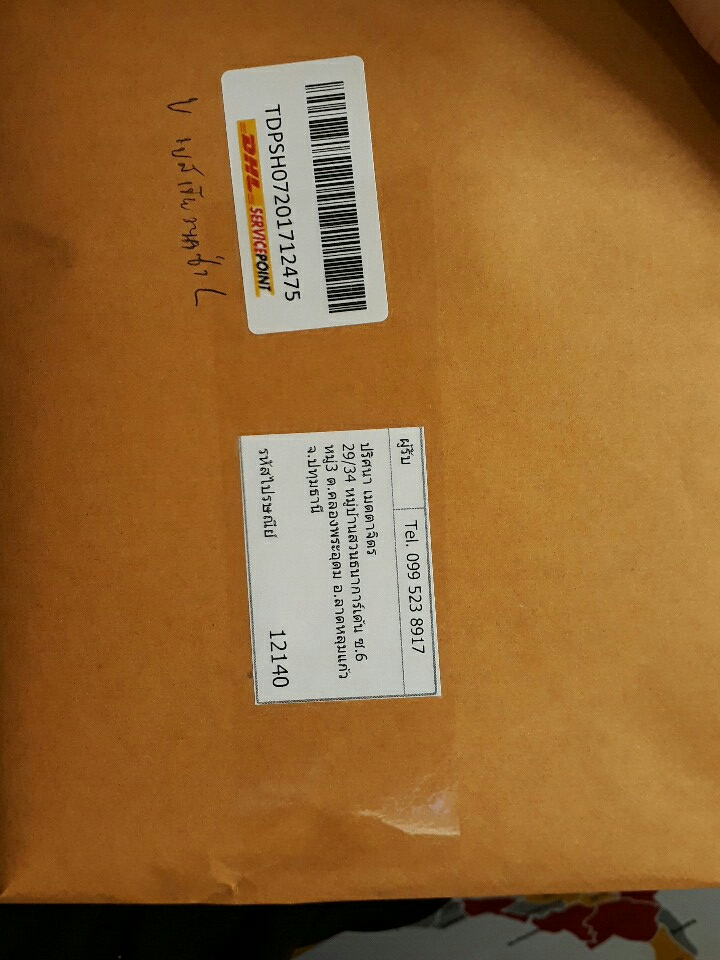ba: (215, 47, 401, 345)
txt: (256, 436, 429, 690)
